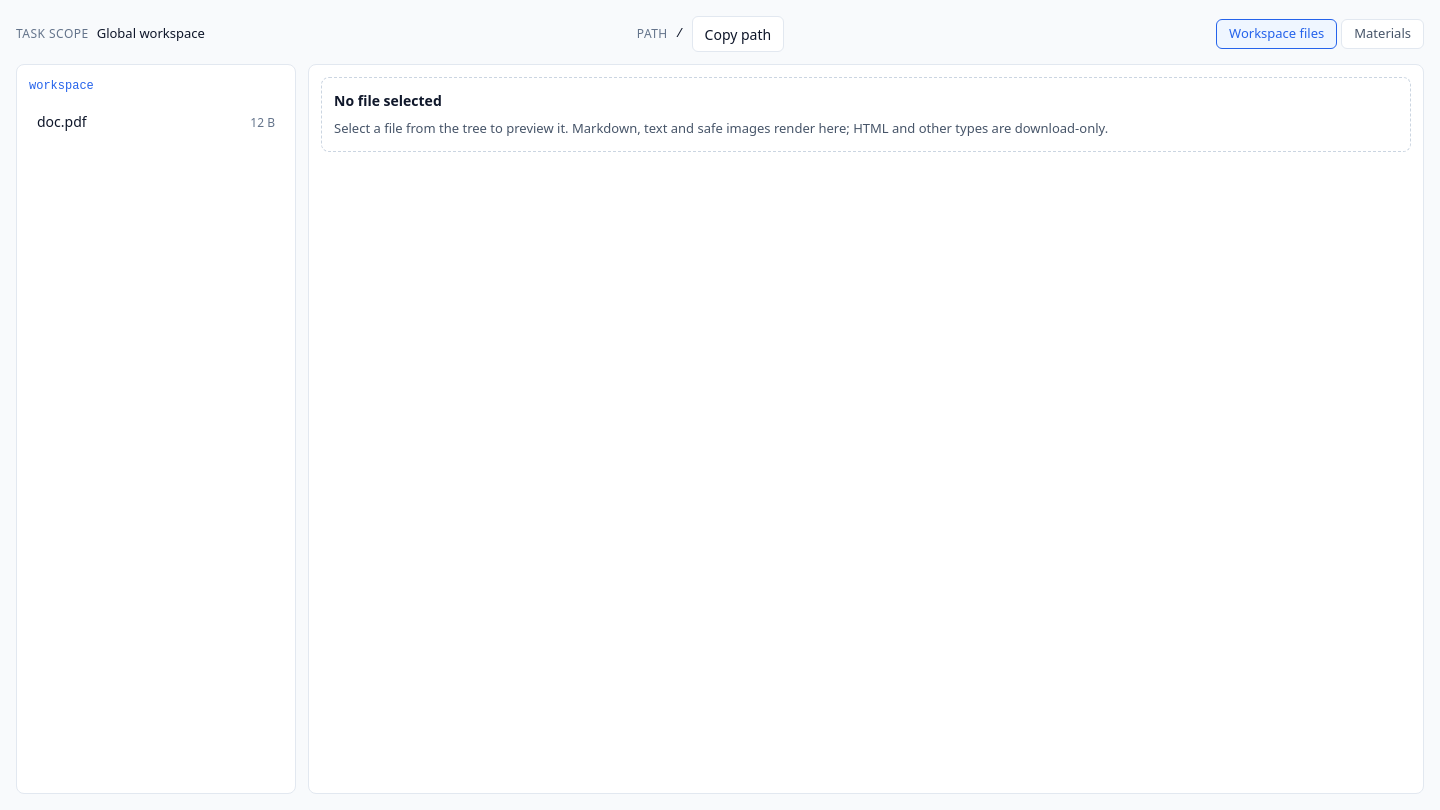
Test: FilesPanel › shows an honest unsupported state for binary types
Click the button titled "doc.pdf". click: (156, 122)
box: [29, 103, 283, 140]
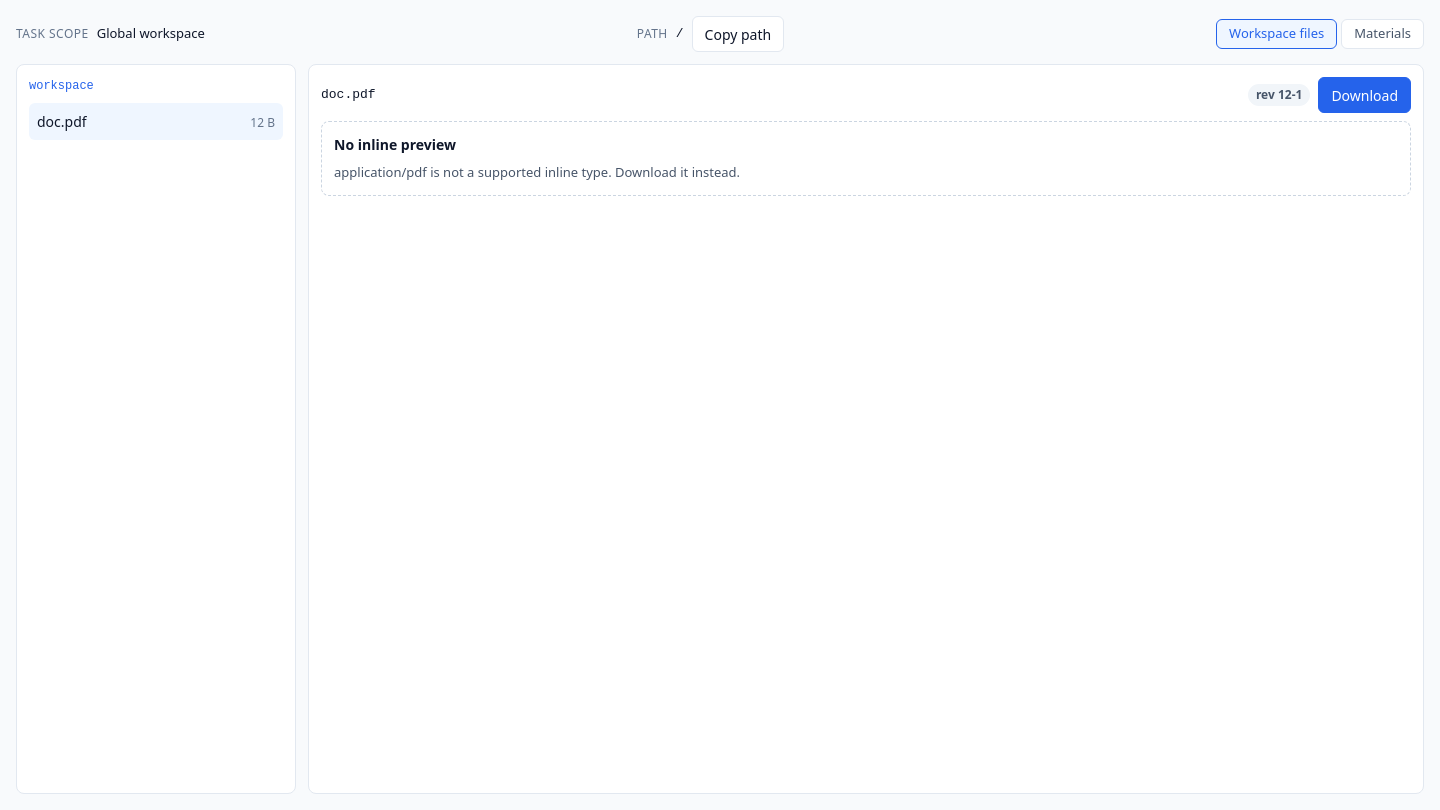
Now the text "No inline preview" is shown, box [334, 134, 456, 155]
Now the button "Download" is shown, box [1318, 77, 1411, 113]
